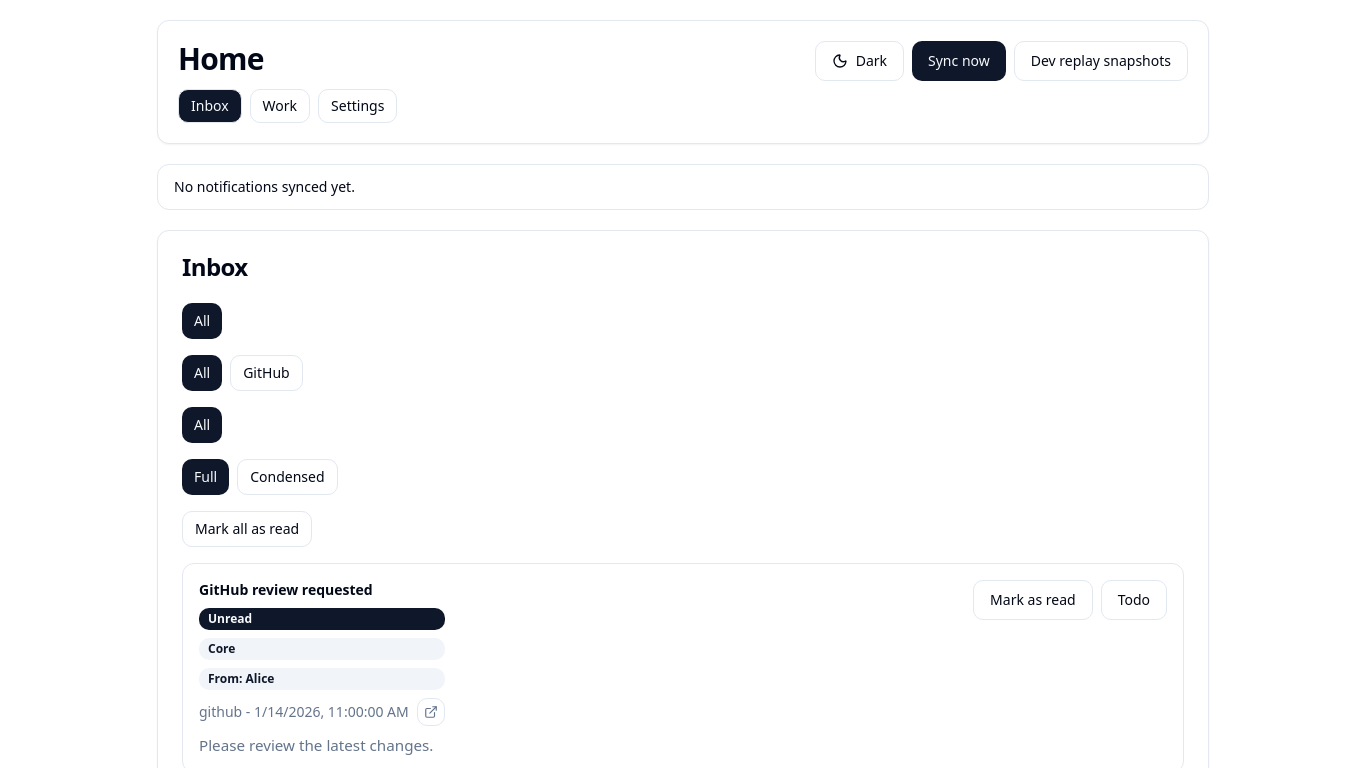
App › toggles between full and condensed notification views
expect the text "GitHub review requested" is shown: met, box [199, 580, 373, 599]
expect the text "Please review the latest changes." is shown: met, box [199, 734, 445, 756]
Click the button "Condensed". click: point(287, 477)
box: [237, 459, 338, 495]
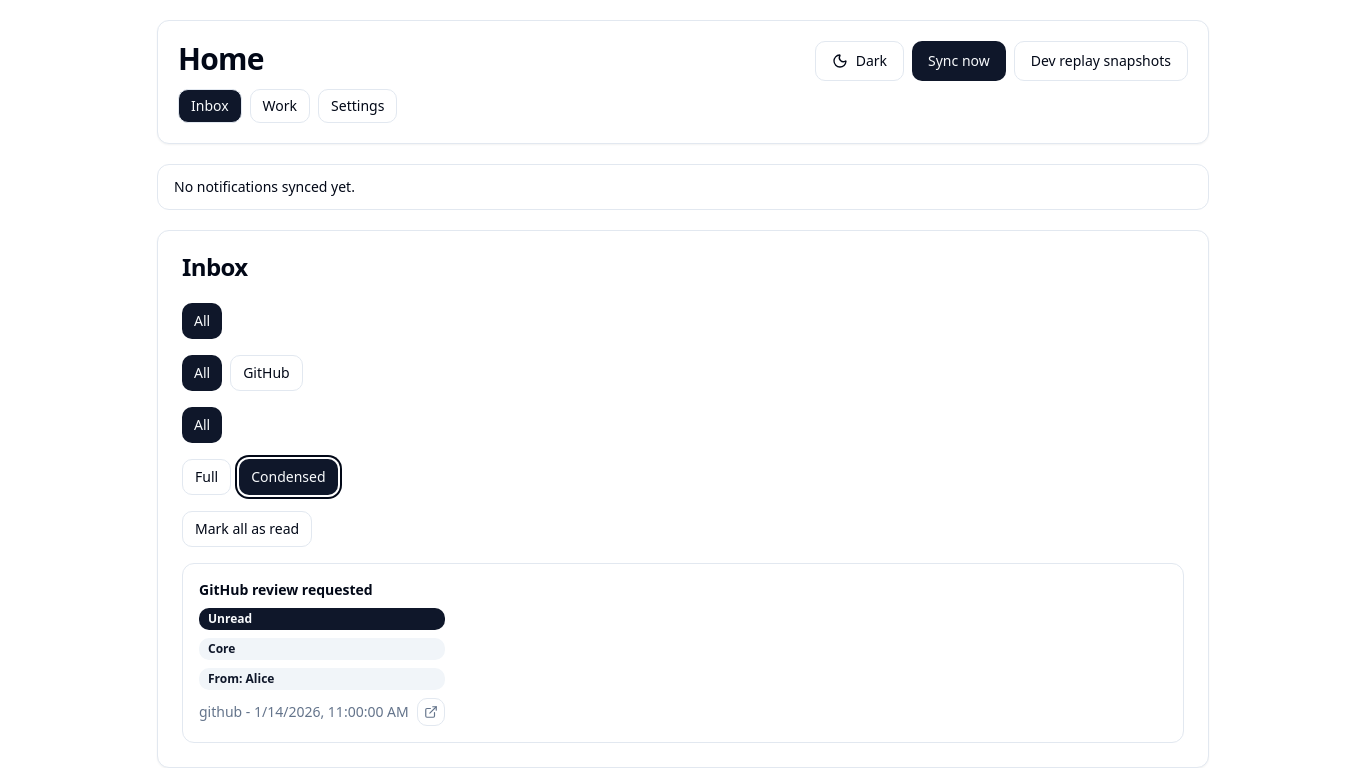
expect the text "github - 1/14/2026, 11:00:00 AM" is shown: met, box [199, 702, 409, 722]
expect the text "Please review the latest changes." is gone: met
expect the button "Mark as read" is gone: met
Click the button "Full". click: point(207, 477)
box: [182, 459, 231, 495]
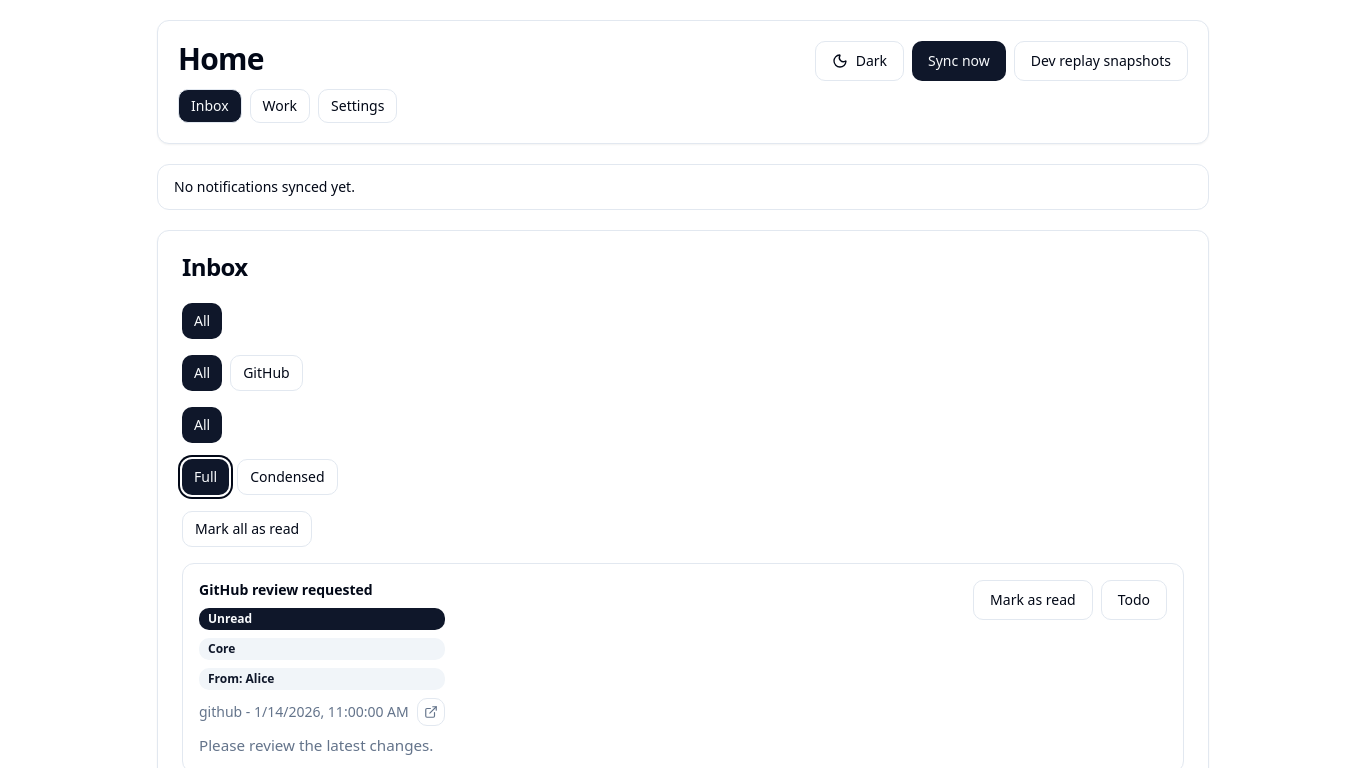
expect the text "Please review the latest changes." is shown: met, box [199, 734, 445, 756]
expect the button "Mark as read" is shown: met, box [973, 580, 1093, 620]
